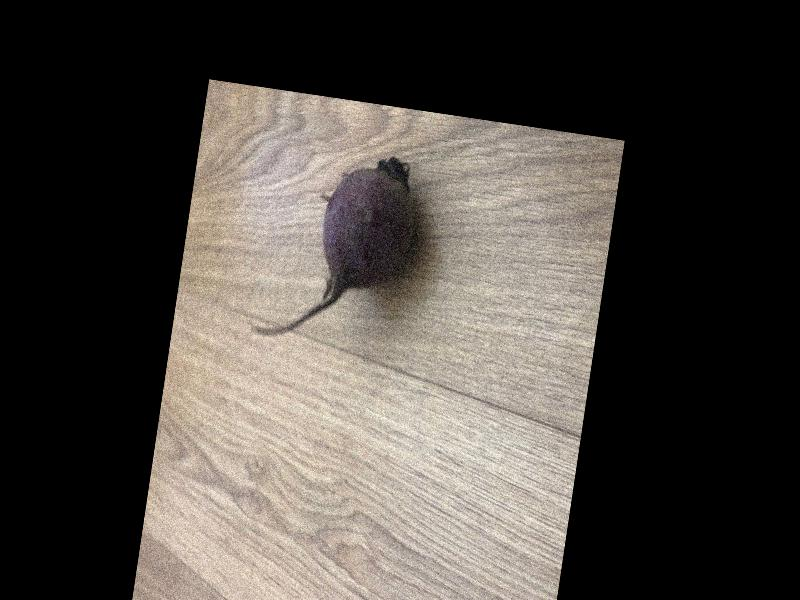Beet: (250, 143, 423, 358)
